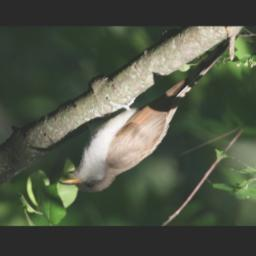Cuckoo: (58, 35, 237, 193)
